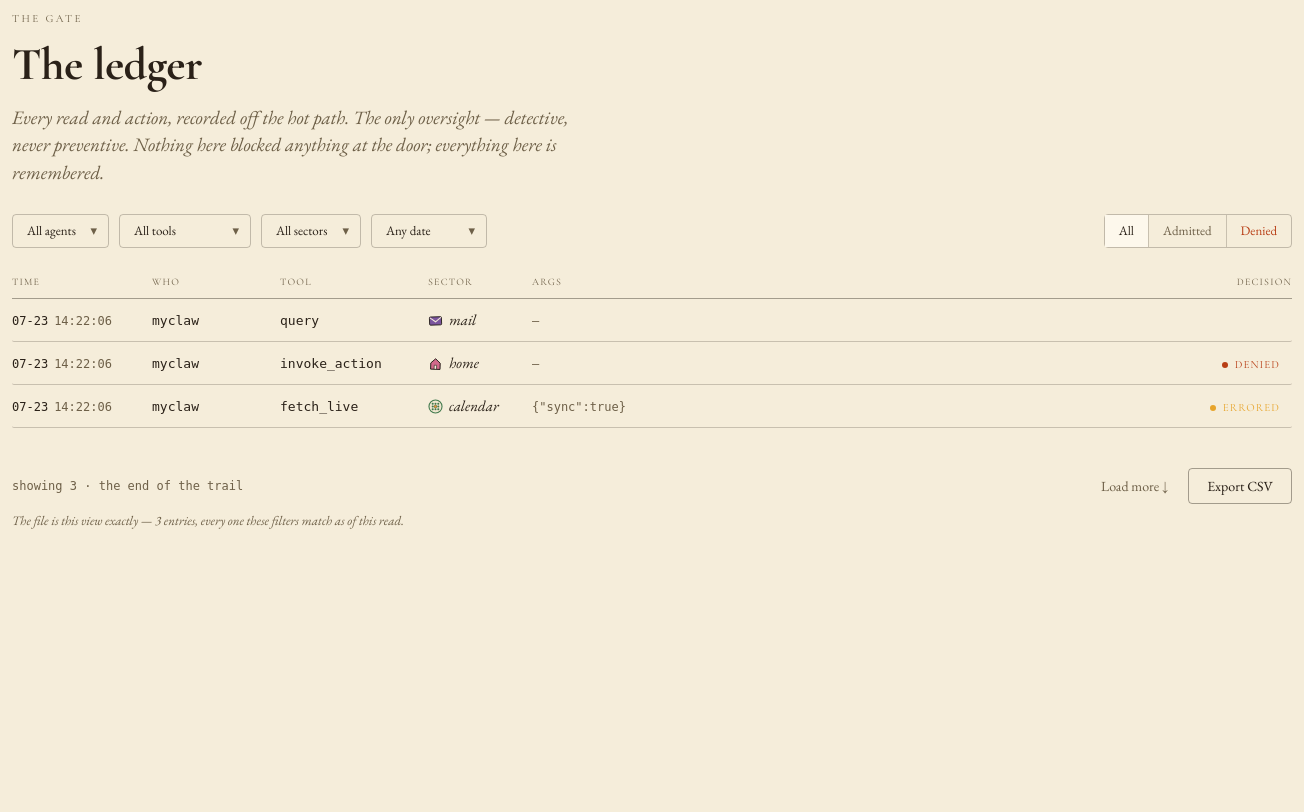
Test: #78 — the three decision states reach the screen › the denied row's drill surfaces the deny reason
Click the text "invoke_action" at (652, 364), box [12,342,1292,385]
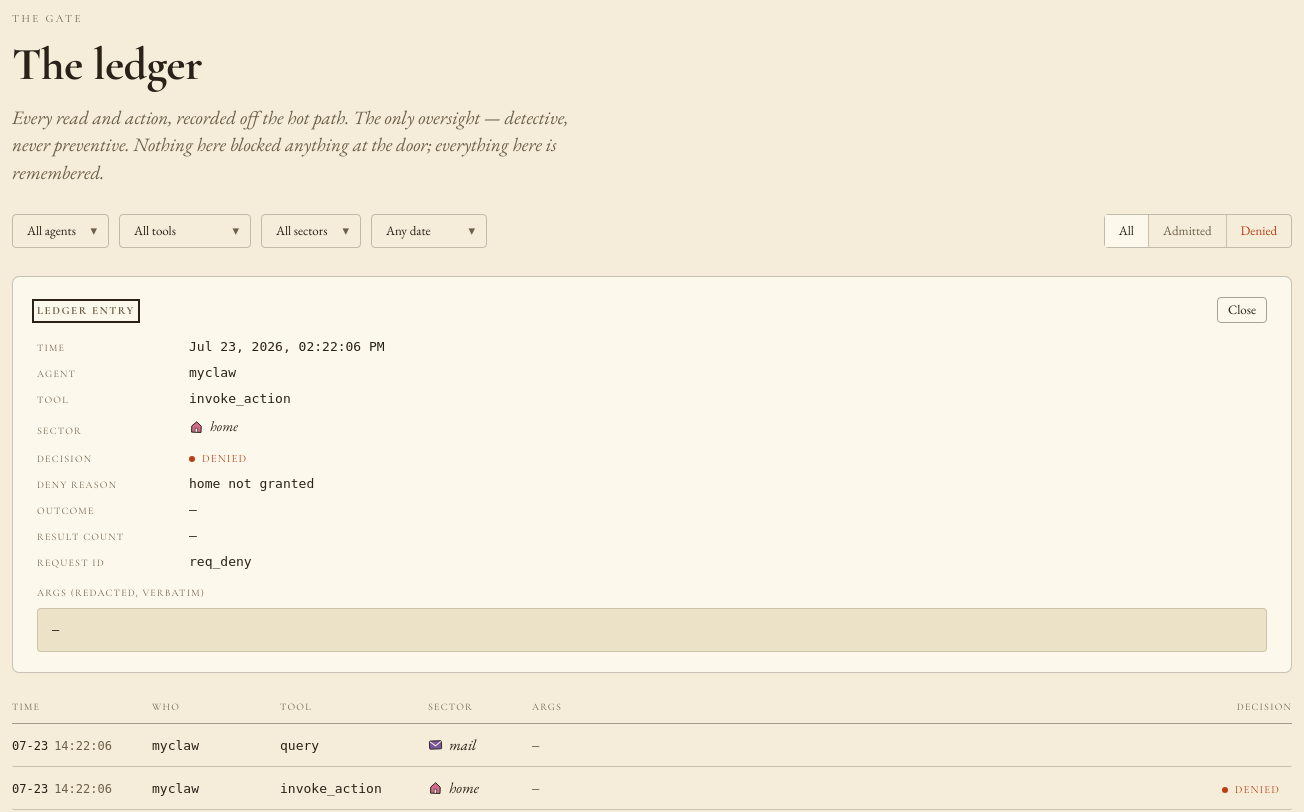
Now the element "Ledger entry" shows "Deny reason", box [37,479,117,491]
Now the element "Ledger entry" shows "home not granted", box [189,476,314,491]
